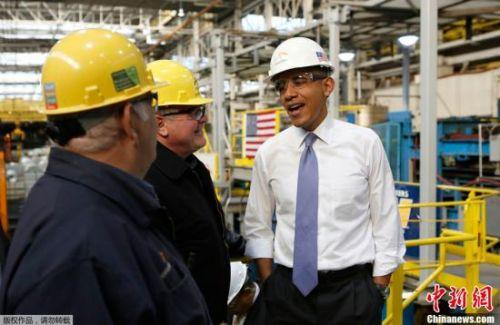helmet: (41, 29, 156, 114), (143, 59, 218, 108), (268, 37, 335, 81)
